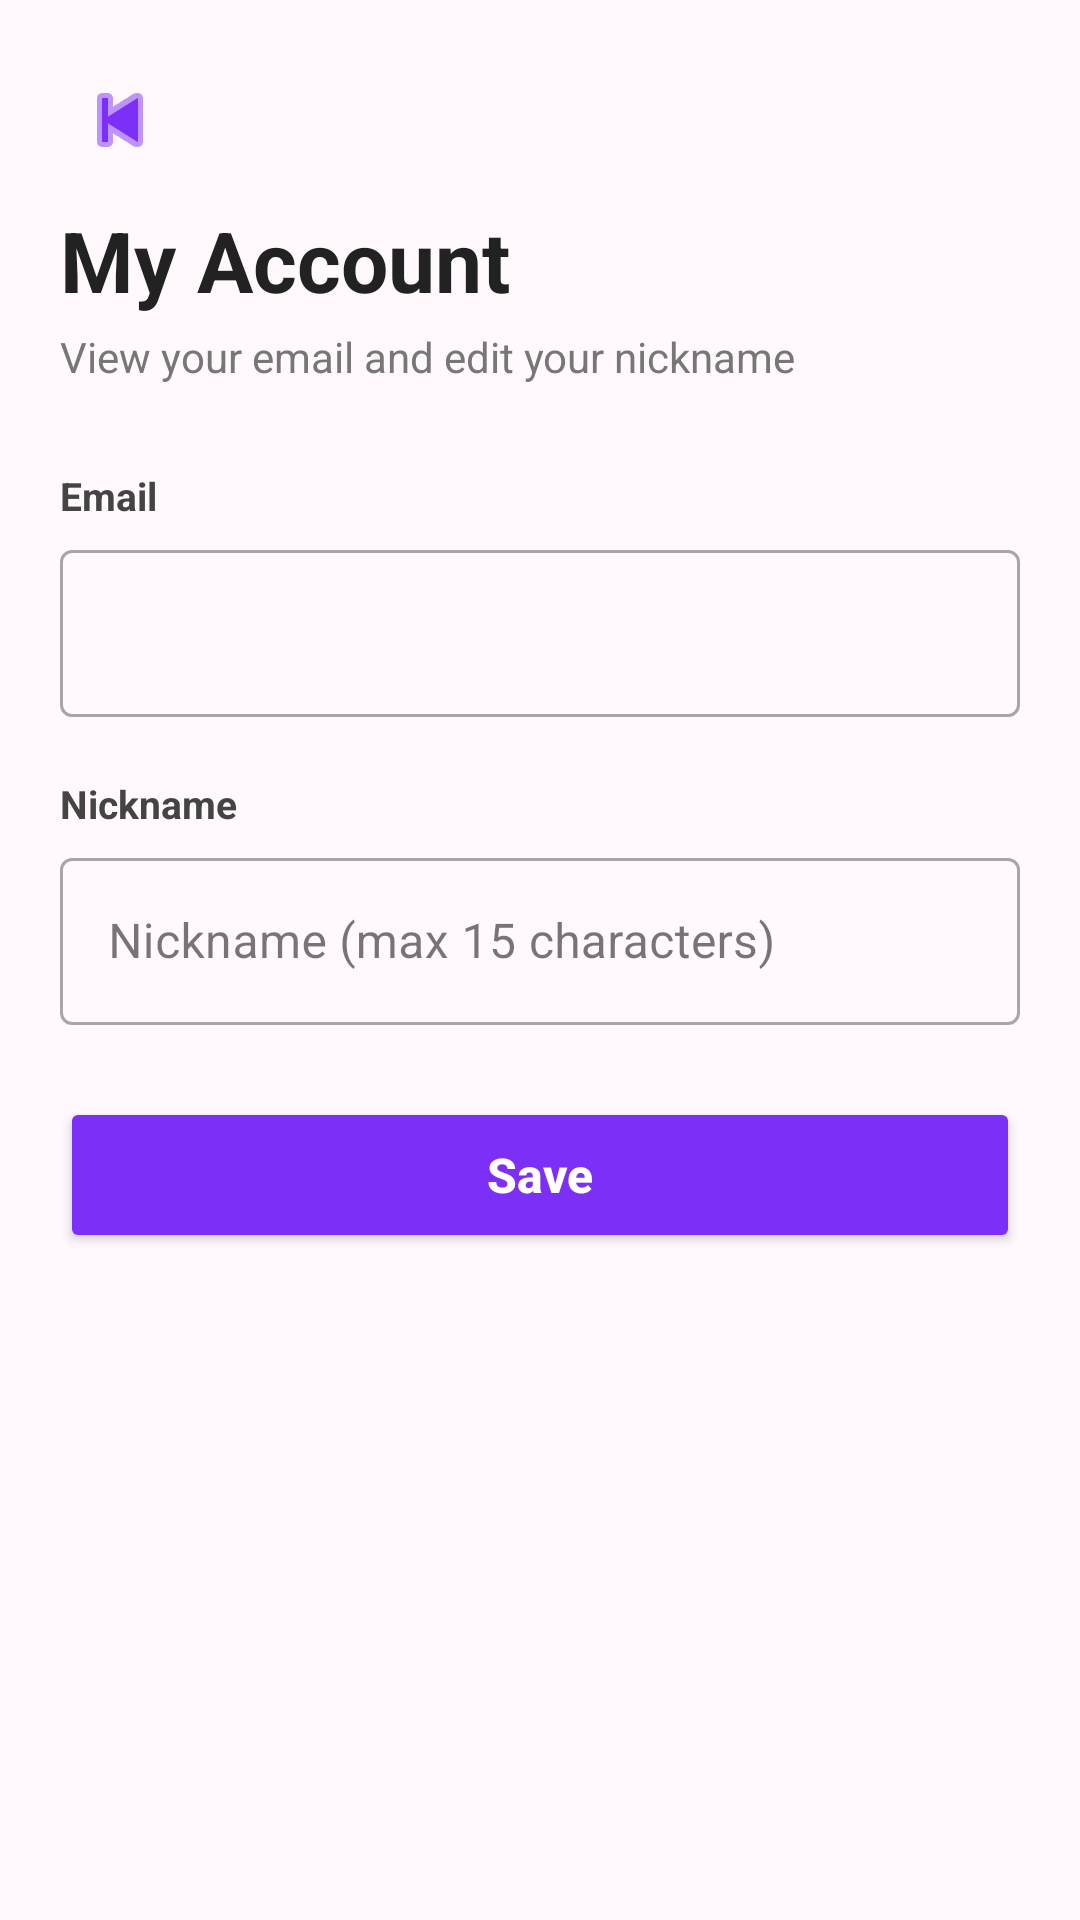

Screen size 1080px x 1920px. Icon name, then its box in pixels as (x1, y1, x2, y2):
Back: (97, 93, 143, 147)
